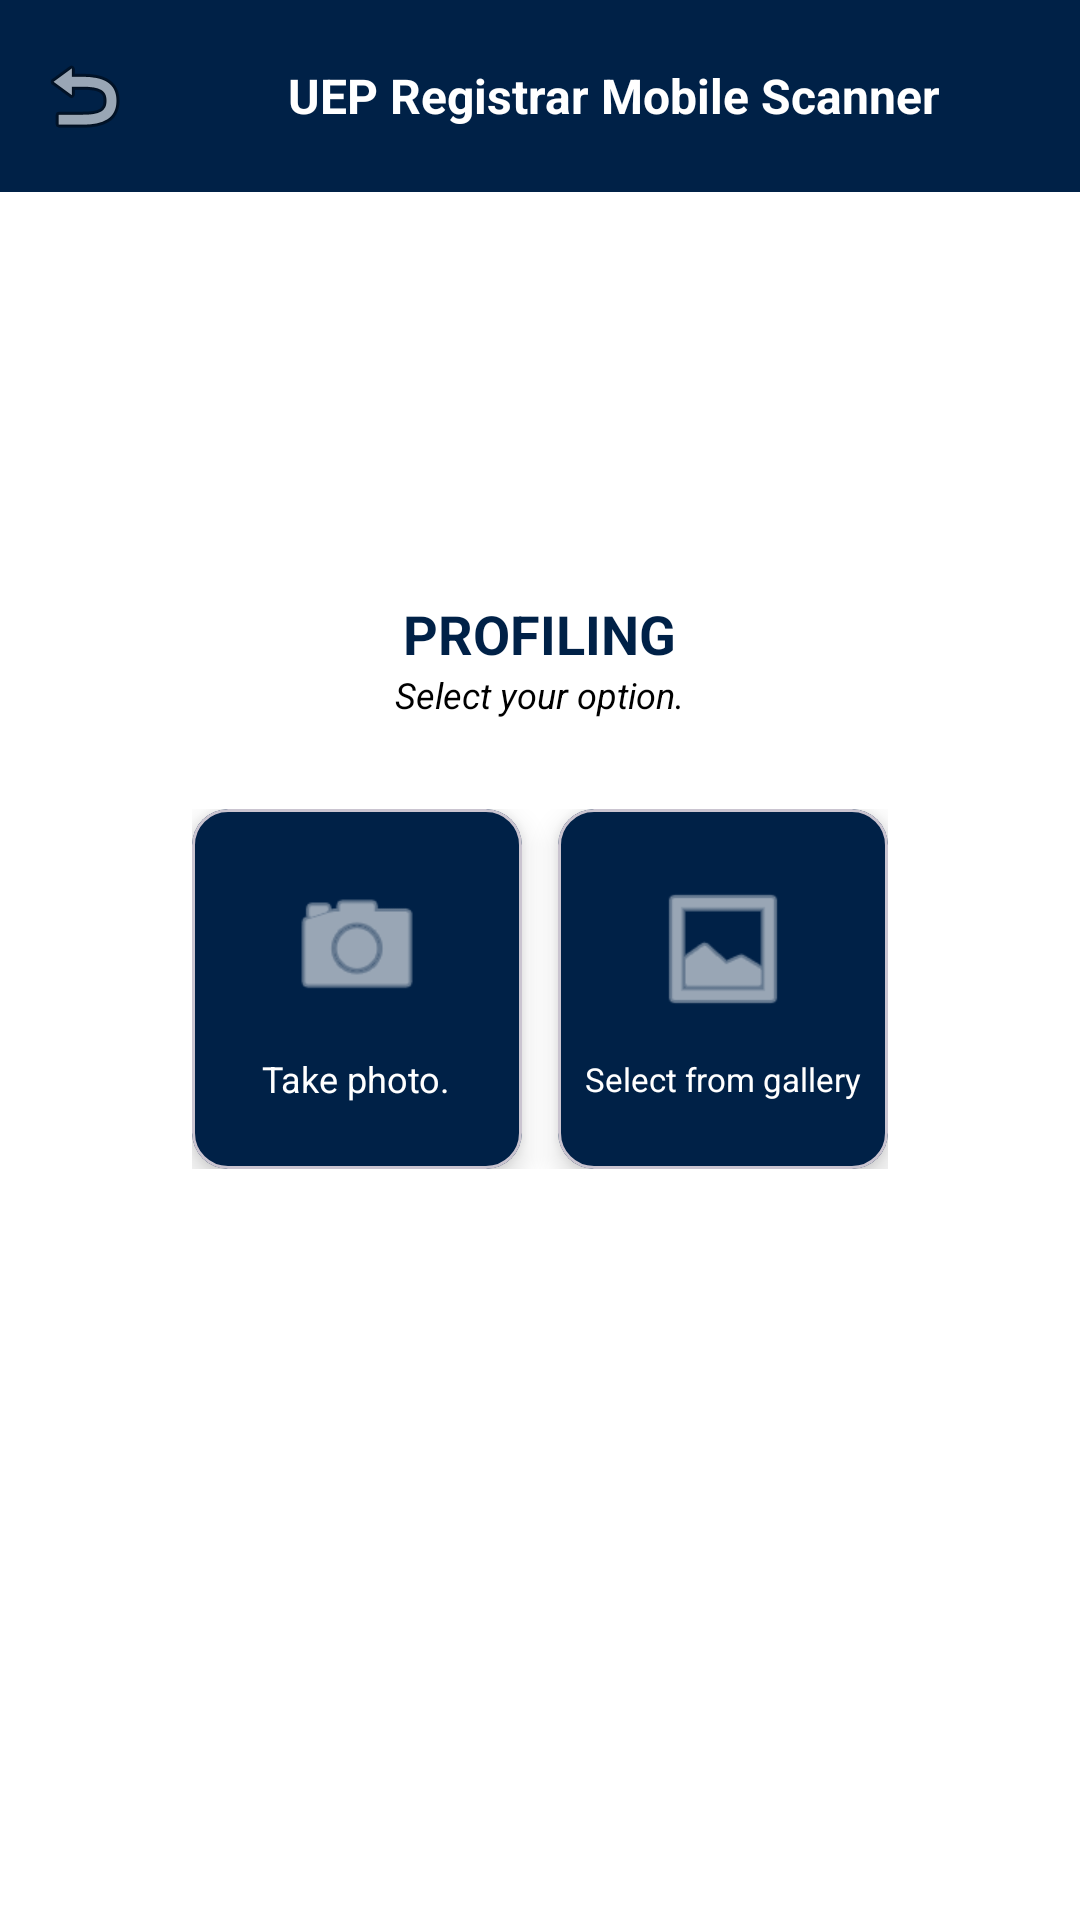

Where icons sit on this 1080 × 1920 app screen, as (x1, y1, x2, y2):
camera: (301, 899, 413, 988)
